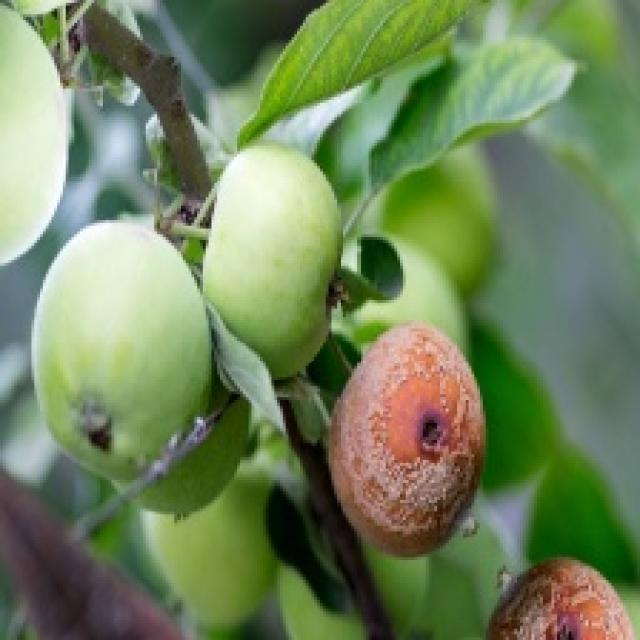50-_ripeness: (31, 222, 208, 472), (215, 157, 332, 362)
rotten_apple: (333, 325, 479, 552), (488, 561, 631, 640)
